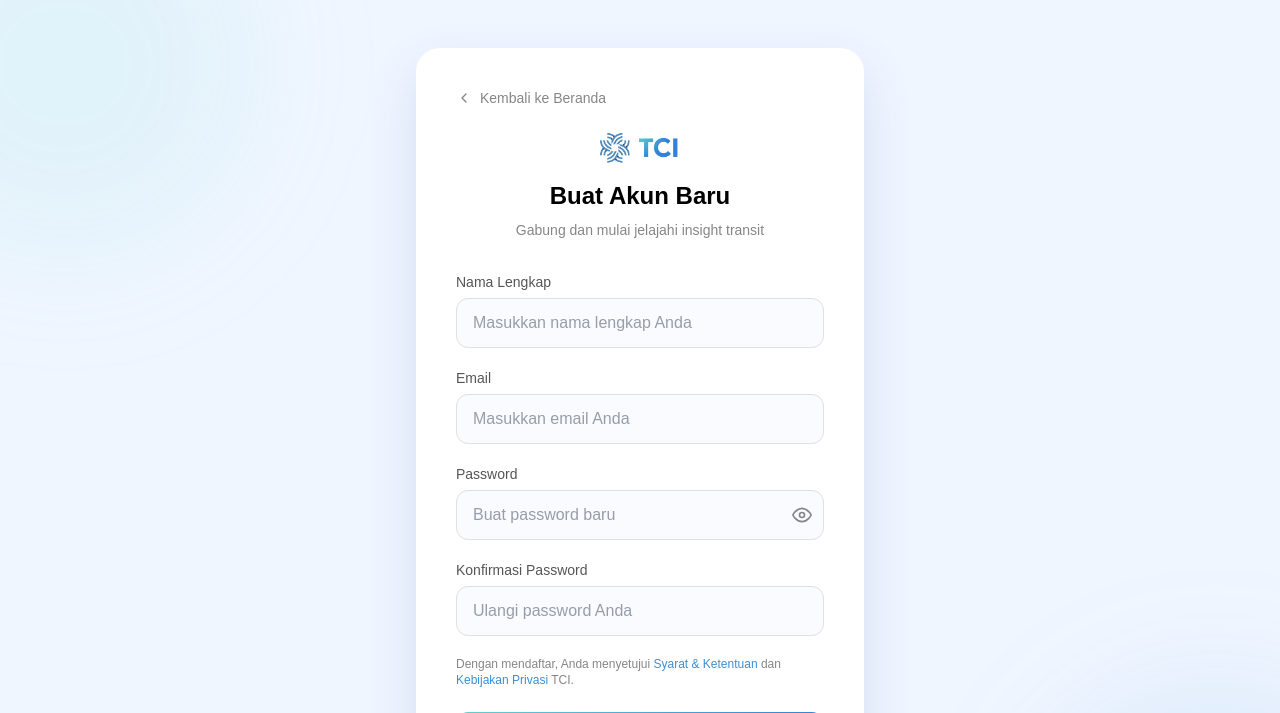
Test case: Register Page › shows error when passwords do not match
Type "John Doe" into the field labelled "Nama Lengkap" at x=640, y=323, box [456, 298, 824, 348]
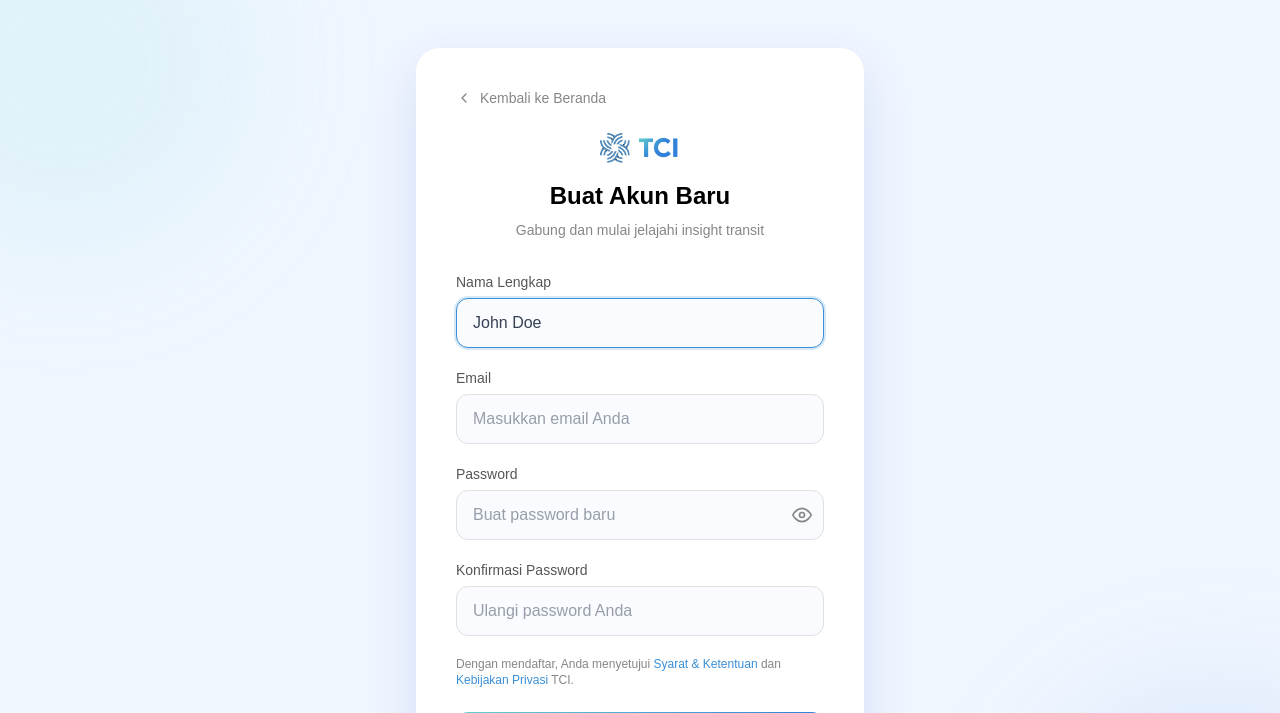
Type "john@example.com" into the field labelled "Email" at x=640, y=419, box [456, 394, 824, 444]
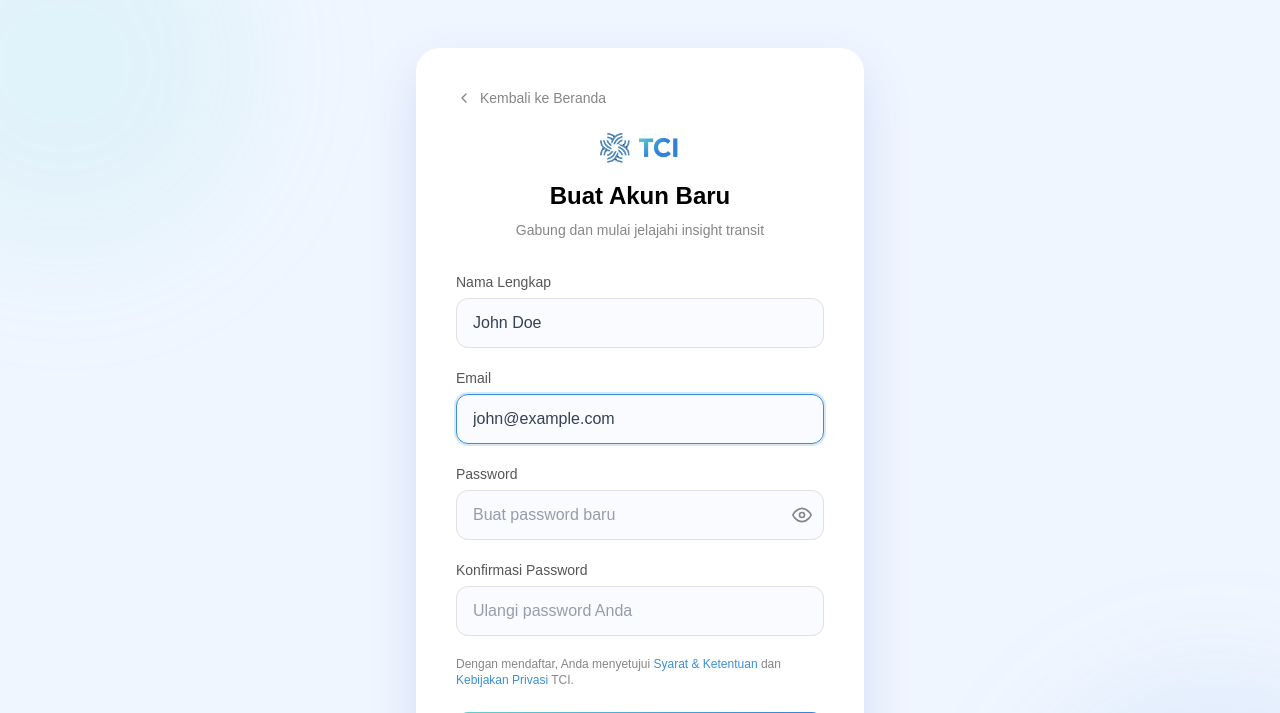
Type "password123" into the password field labelled "Password" at x=640, y=515, box [456, 490, 824, 540]
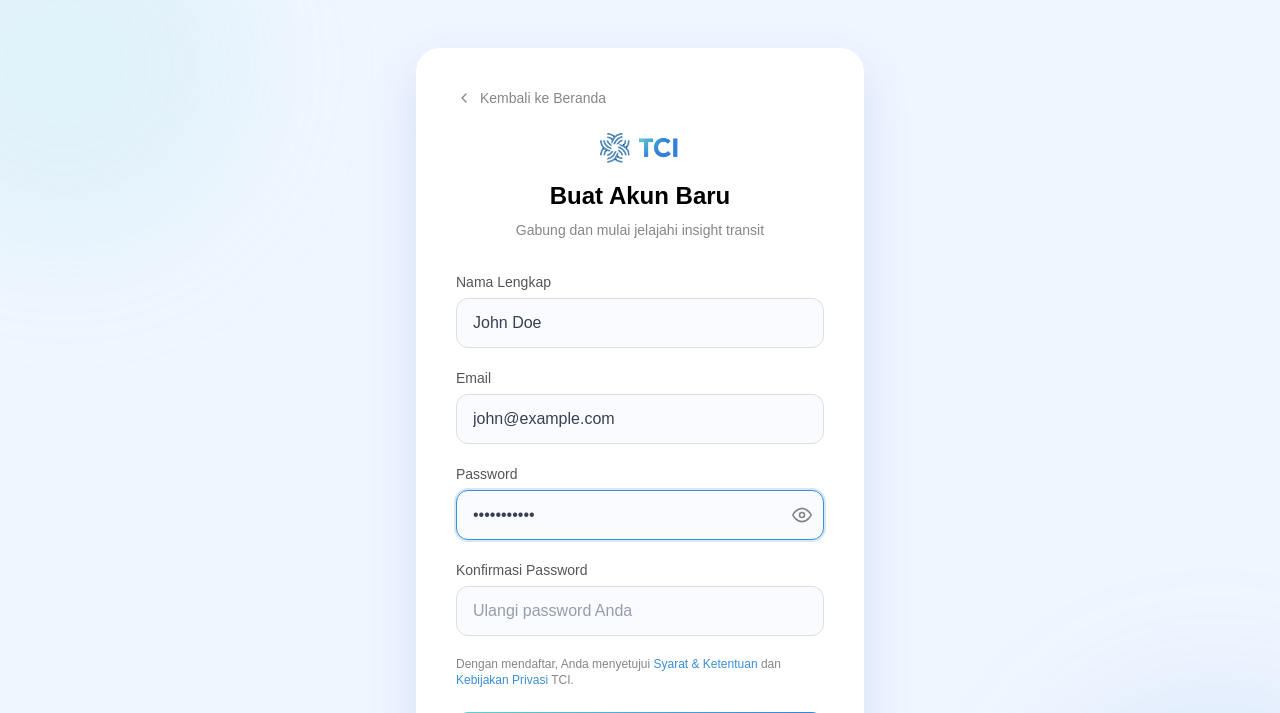
Type "differentpass" into the password field labelled "Konfirmasi Password" at x=640, y=611, box [456, 586, 824, 636]
(page scrolled)
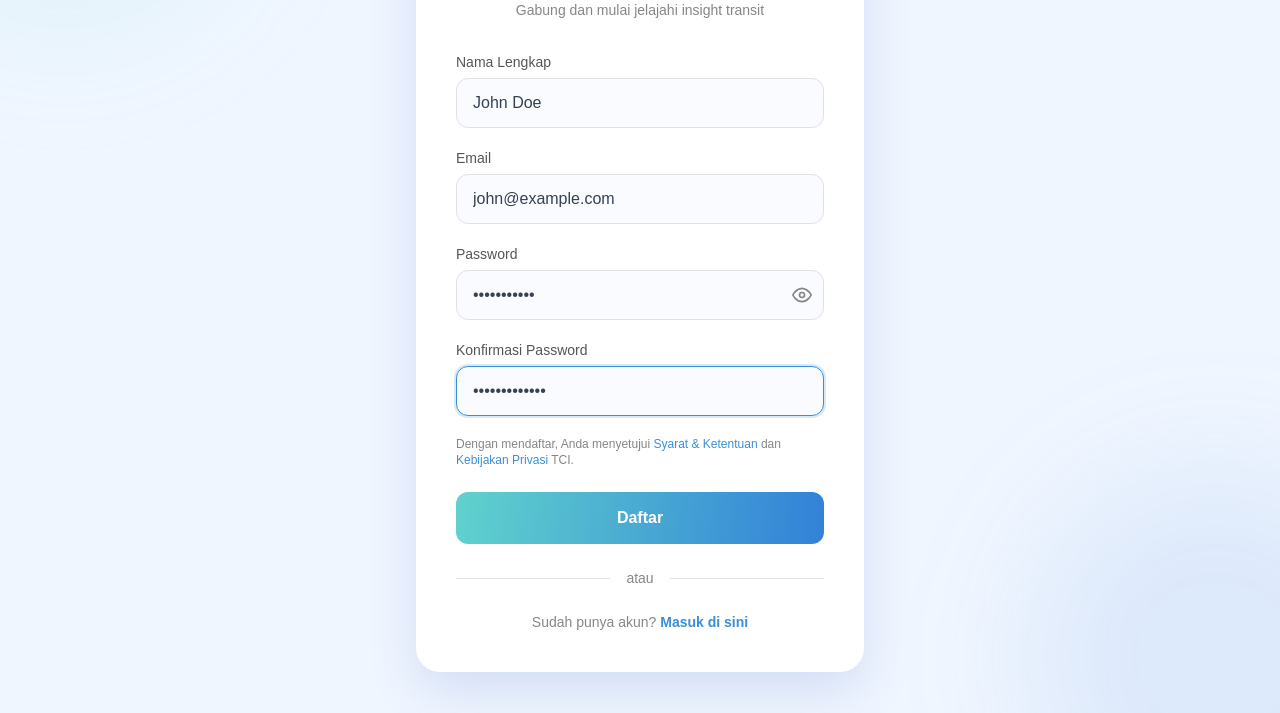
Click the button "Daftar" at x=640, y=518, box [456, 492, 824, 544]
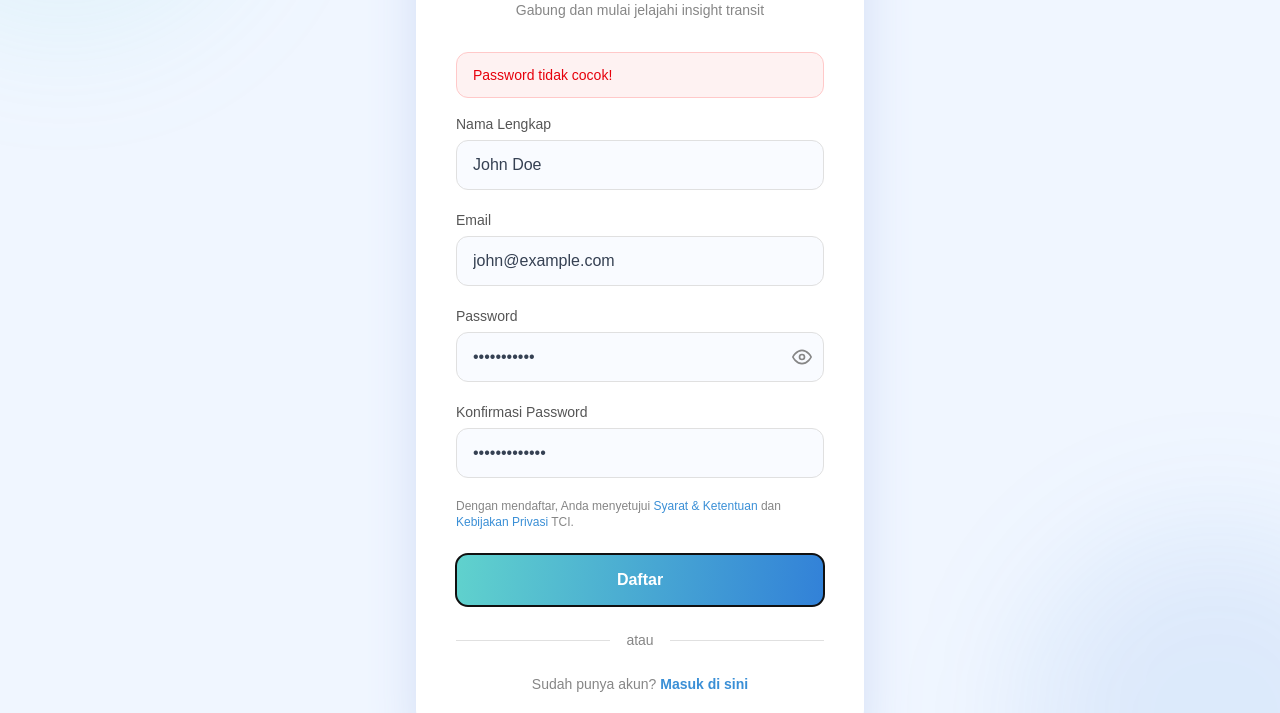
Now the text "Password tidak cocok!" is shown, box [456, 52, 824, 98]
